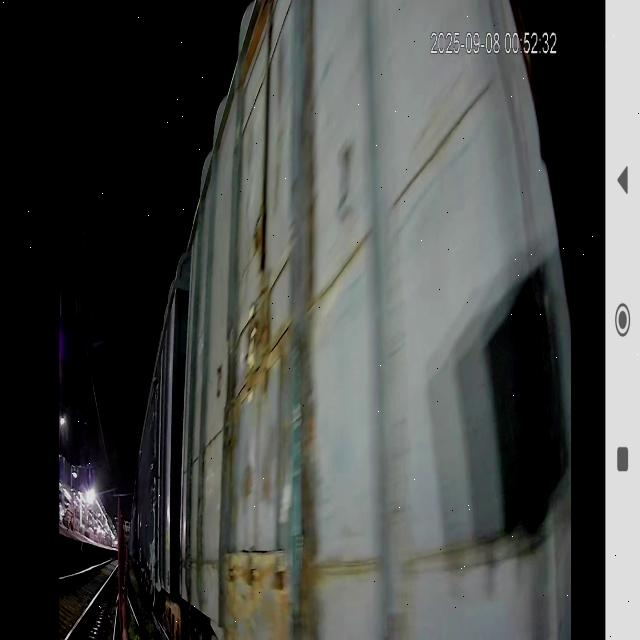coach: (190, 4, 560, 640)
